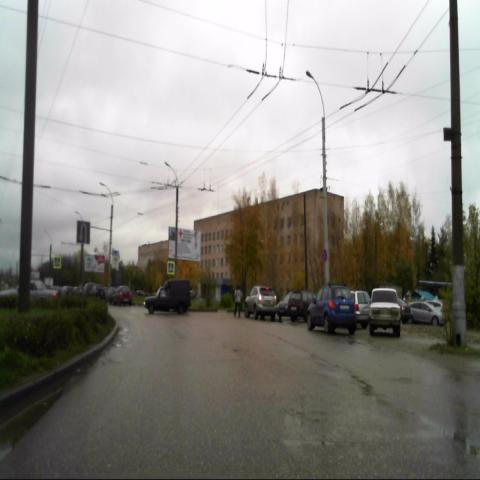6_3_1: (76, 220, 90, 246)
